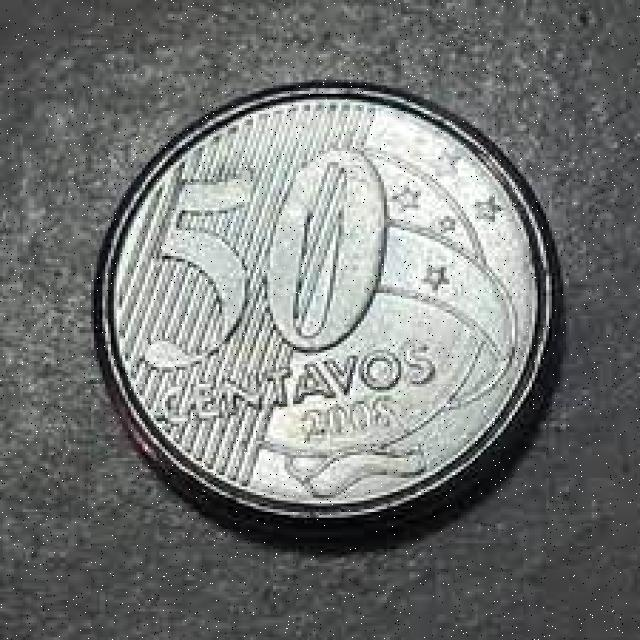50 cent: (99, 77, 563, 534)
